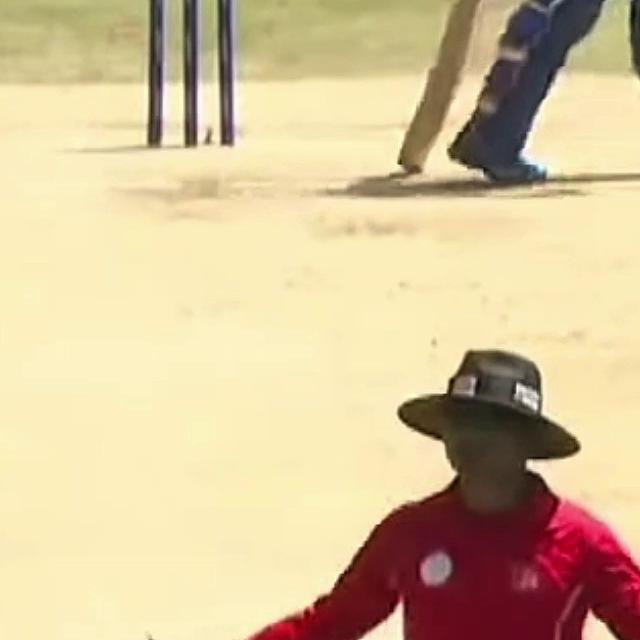umpire: (90, 334, 640, 640)
